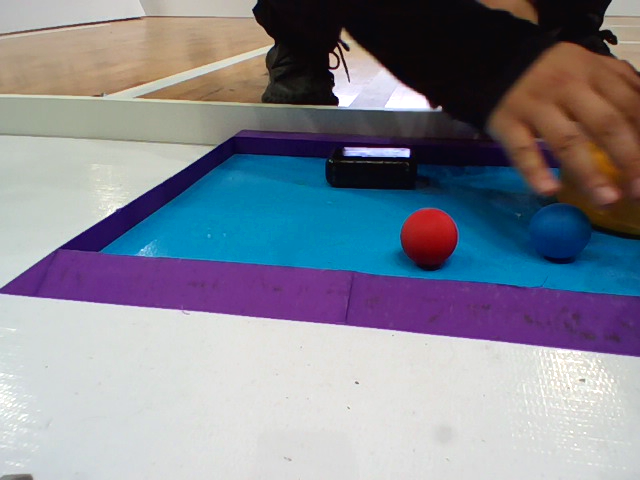black: (321, 142, 431, 192)
blue: (533, 203, 591, 266)
kuang: (2, 107, 640, 362)
red: (396, 209, 454, 268)
